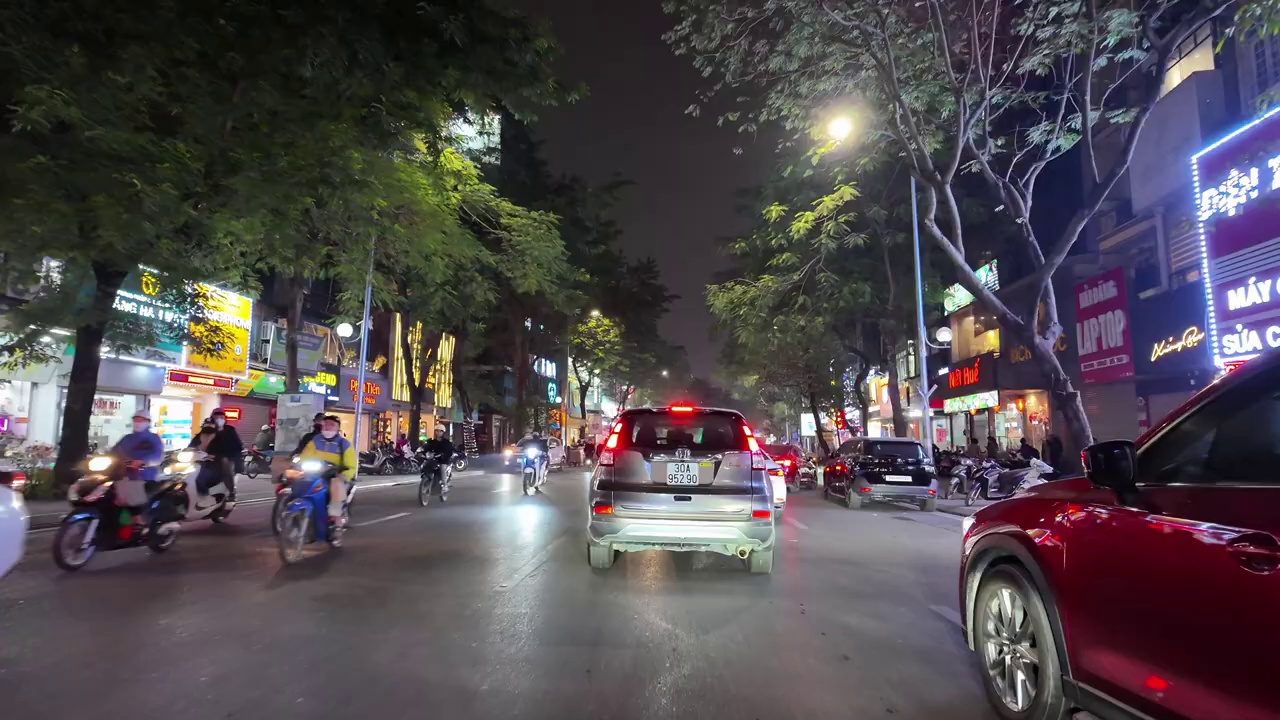acesa: (815, 110, 861, 153)
